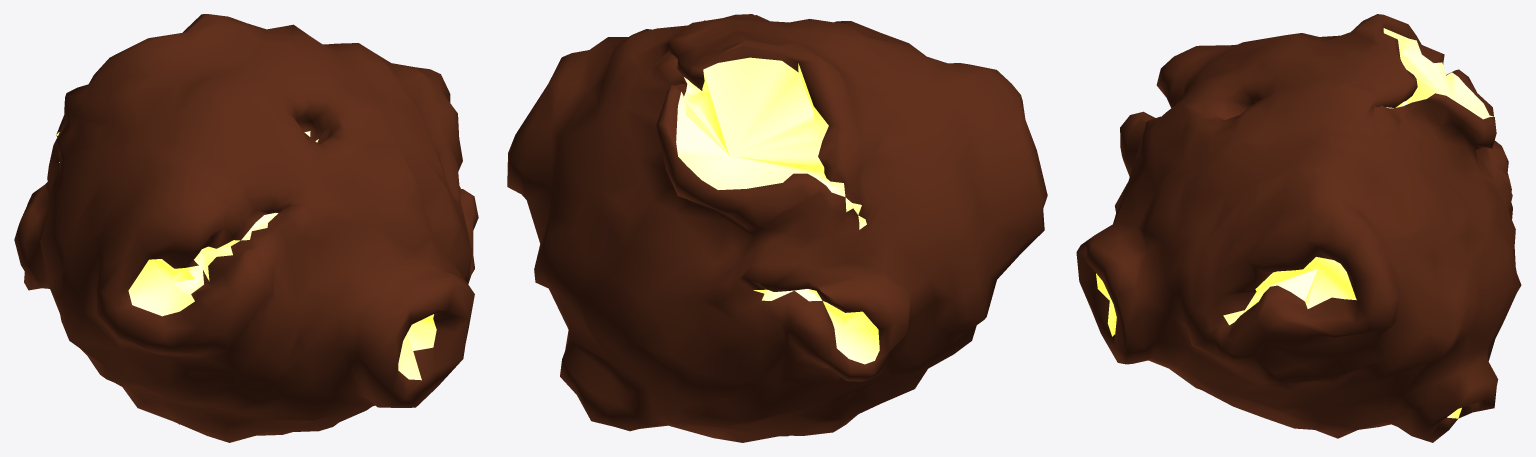
Rendered from mesh_Galaxy_Trap_Asteroid.fbx.
3 renders of one model, left to right at view 1: azimuth 30°, elevation 25°; view 2: azimuth 150°, elevation 25°; view 3: azimuth 270°, elevation 25°, orthographic. The views are drawn at different scales.
Parts seen in each view (by area): view 1: mesh_Galaxy_Trap_Asteroid; view 2: mesh_Galaxy_Trap_Asteroid; view 3: mesh_Galaxy_Trap_Asteroid.
Part boxes in pixels (left/top/right/bottom): mesh_Galaxy_Trap_Asteroid: left=14, top=14, right=478, bottom=442; mesh_Galaxy_Trap_Asteroid: left=507, top=14, right=1047, bottom=442; mesh_Galaxy_Trap_Asteroid: left=1076, top=14, right=1521, bottom=442.
Size of the model in its own units: 314 by 276 by 298.
